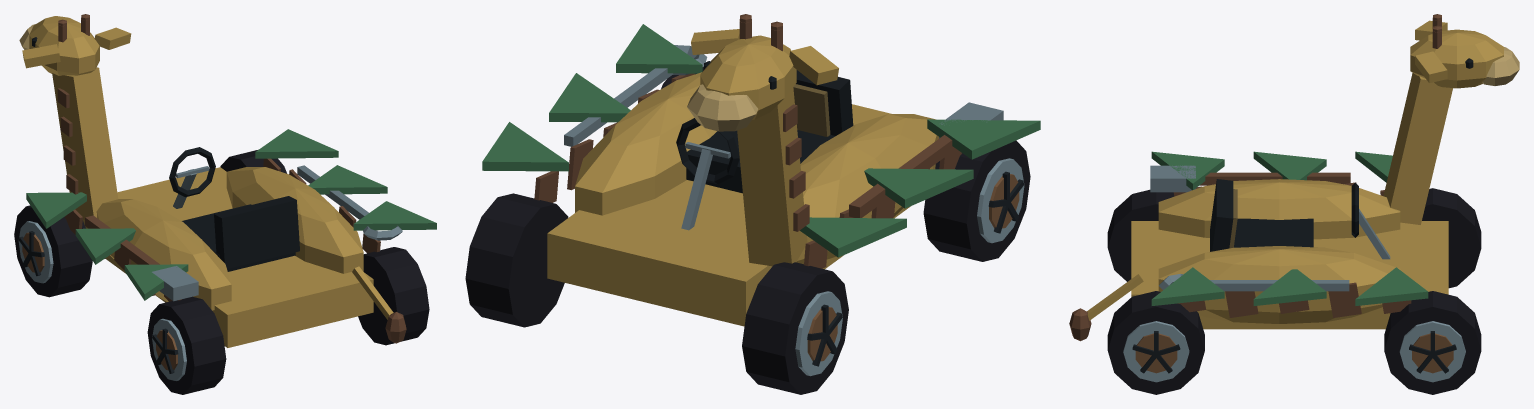
Rendered from kart.glb.
The picture shows the model from 3 angles, left to right: view 1: azimuth 30°, elevation 25°; view 2: azimuth 150°, elevation 25°; view 3: azimuth 270°, elevation 25°; orthographic projection. The views are drawn at different scales.
Parts seen in each view (by area): view 1: identity-beast-giraffe-offset-long-neck-ossicones-and-spots, identity-beast-motif-leaves, identity-beast-driver-cockpit, wheel-rear-left, wheel-front-left, wheel-rear-right, identity-beast-motif-tools, wheel-front-right; view 2: identity-beast-giraffe-offset-long-neck-ossicones-and-spots, identity-beast-motif-leaves, wheel-front-left, wheel-front-right, wheel-rear-left, identity-beast-driver-cockpit, identity-beast-motif-tools; view 3: identity-beast-giraffe-offset-long-neck-ossicones-and-spots, identity-beast-motif-leaves, wheel-front-right, wheel-rear-right, identity-beast-driver-cockpit, identity-beast-motif-tools, wheel-front-left, wheel-rear-left.
Part boxes in pixels (box(x1,y1,x2,y2)): identity-beast-giraffe-offset-long-neck-ossicones-and-spots: box(19, 14, 406, 347); identity-beast-motif-leaves: box(26, 129, 436, 300); identity-beast-driver-cockpit: box(169, 147, 299, 271); wheel-rear-left: box(147, 296, 226, 394); wheel-front-left: box(14, 205, 92, 297); wheel-rear-right: box(358, 247, 429, 345); identity-beast-motif-tools: box(85, 165, 402, 301); wheel-front-right: box(220, 149, 286, 173); identity-beast-giraffe-offset-long-neck-ossicones-and-spots: box(534, 14, 961, 326); identity-beast-motif-leaves: box(482, 24, 1040, 257); wheel-front-left: box(742, 262, 848, 394); wheel-front-right: box(465, 193, 568, 327); wheel-rear-left: box(923, 140, 1030, 261); identity-beast-driver-cockpit: box(676, 70, 853, 230); identity-beast-motif-tools: box(564, 45, 1003, 217); identity-beast-giraffe-offset-long-neck-ossicones-and-spots: box(1069, 14, 1519, 341); identity-beast-motif-leaves: box(1151, 151, 1428, 305); wheel-front-right: box(1384, 291, 1481, 394); wheel-rear-right: box(1107, 291, 1204, 394); identity-beast-driver-cockpit: box(1210, 179, 1390, 259); identity-beast-motif-tools: box(1150, 165, 1350, 291); wheel-front-left: box(1422, 188, 1481, 288); wheel-rear-left: box(1107, 189, 1174, 281).
Bounding box in the file's own units: 2.3 × 2 × 2.96.
